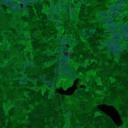alloviz: (54, 76, 86, 97), (95, 102, 123, 126)
